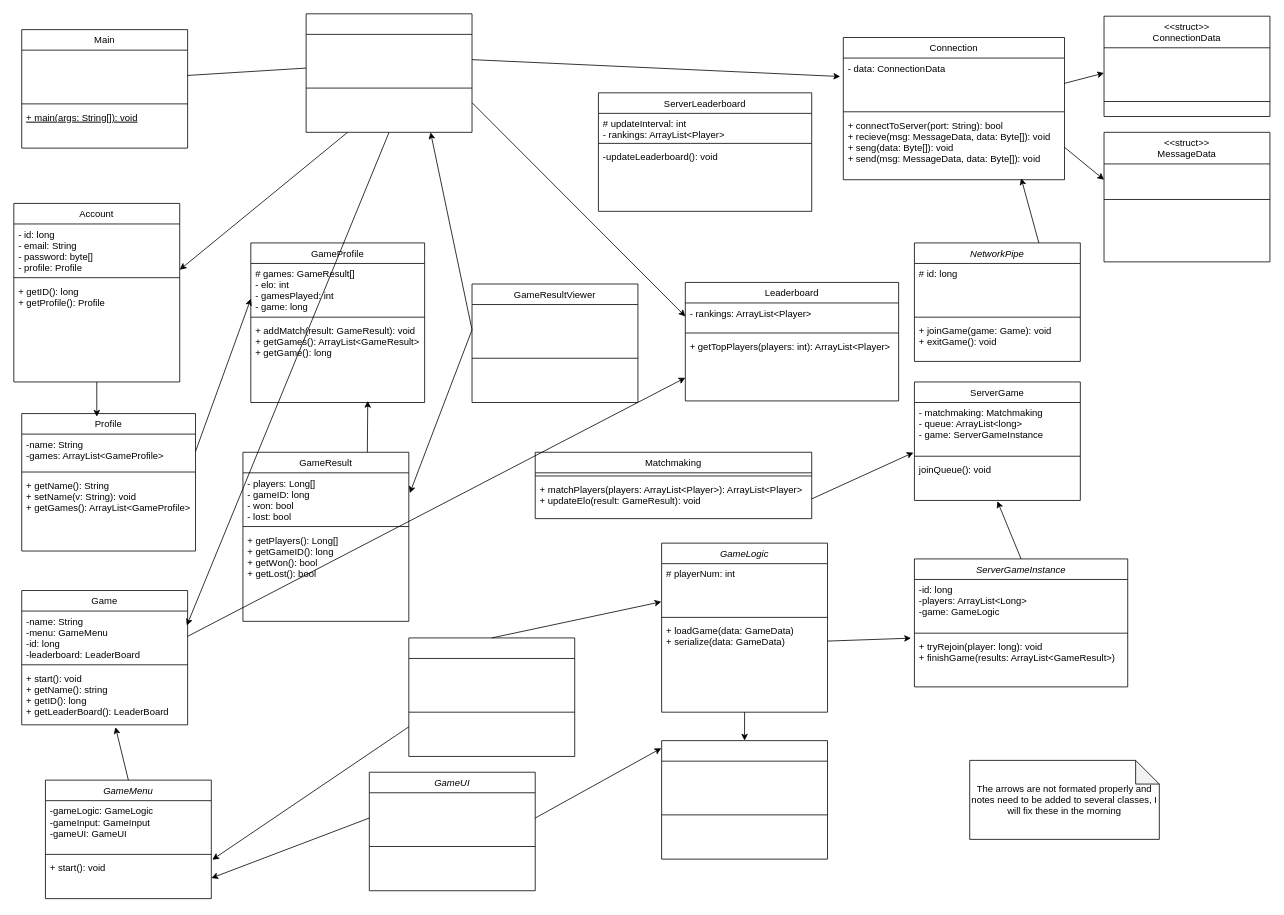
This 1284x915 diagram has some shape labels left out. The centre of each missing label's shape, as x and y in pixels:
"CentralUI" goes at (x=388, y=72).
"GameData" goes at (x=744, y=799).
"GameInput" goes at (x=491, y=696).
